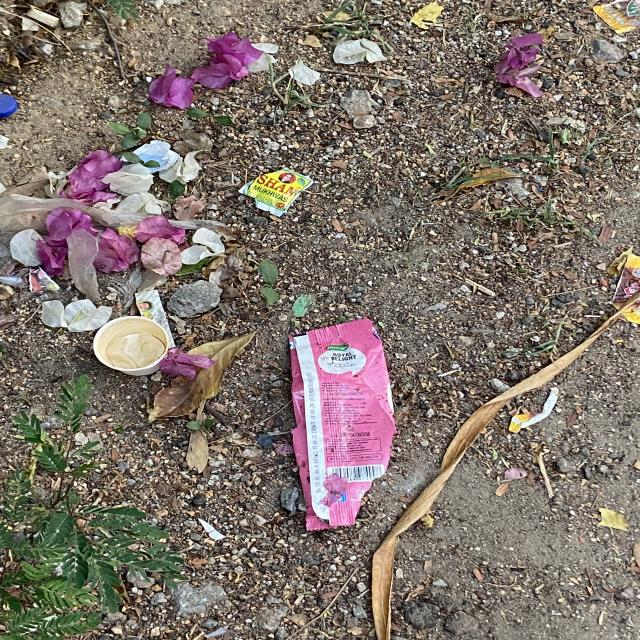biowaste: (372, 291, 640, 640)
paper: (92, 316, 173, 376)
wrapper: (290, 319, 395, 531), (237, 168, 313, 217)
